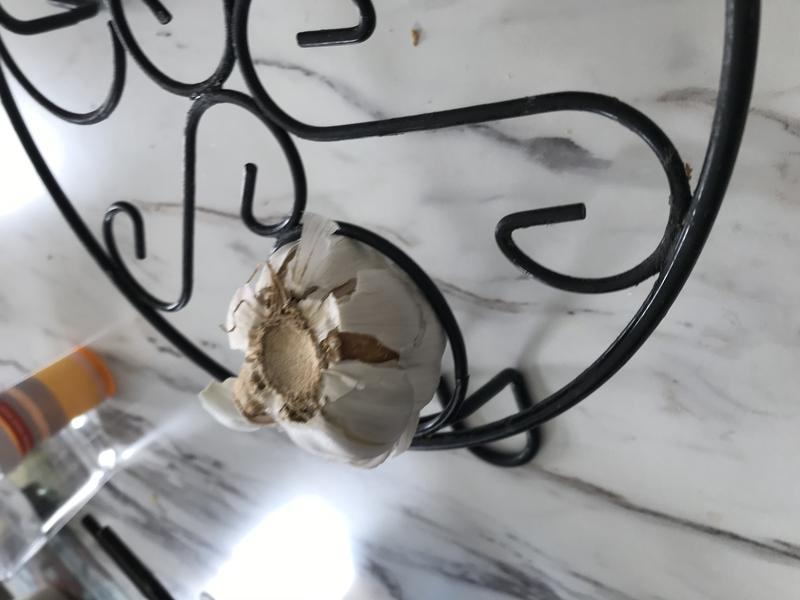garlic: (214, 224, 451, 492)
